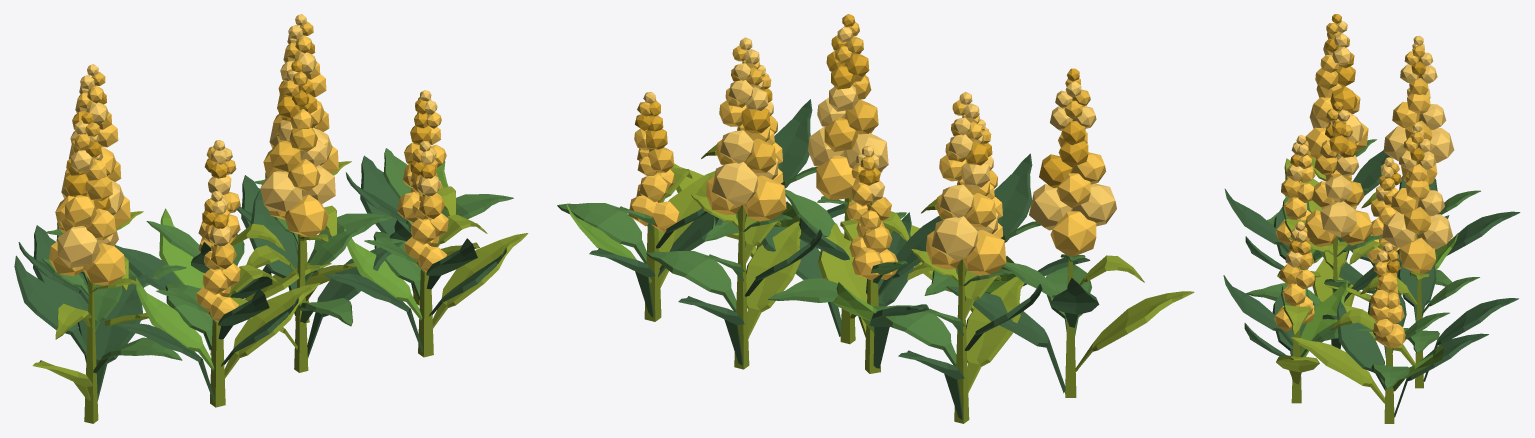
The model's file is EA_M_Env_Flower_Claster_01a.fbx.
3 renders of one model, left to right at view 1: azimuth 30°, elevation 25°; view 2: azimuth 150°, elevation 25°; view 3: azimuth 270°, elevation 25°, orthographic. The views are drawn at different scales.
Parts seen in each view (by area): view 1: EA_M_Env_Flower_Claster_01a_LOD0; view 2: EA_M_Env_Flower_Claster_01a_LOD0; view 3: EA_M_Env_Flower_Claster_01a_LOD0.
Boxes of the visible parts, left/top/right/bottom form: EA_M_Env_Flower_Claster_01a_LOD0: left=14, top=14, right=528, bottom=423; EA_M_Env_Flower_Claster_01a_LOD0: left=557, top=14, right=1194, bottom=423; EA_M_Env_Flower_Claster_01a_LOD0: left=1223, top=14, right=1520, bottom=423.
Size of what is drawn, in the model's own units: 2.23 by 1.21 by 1.24.
